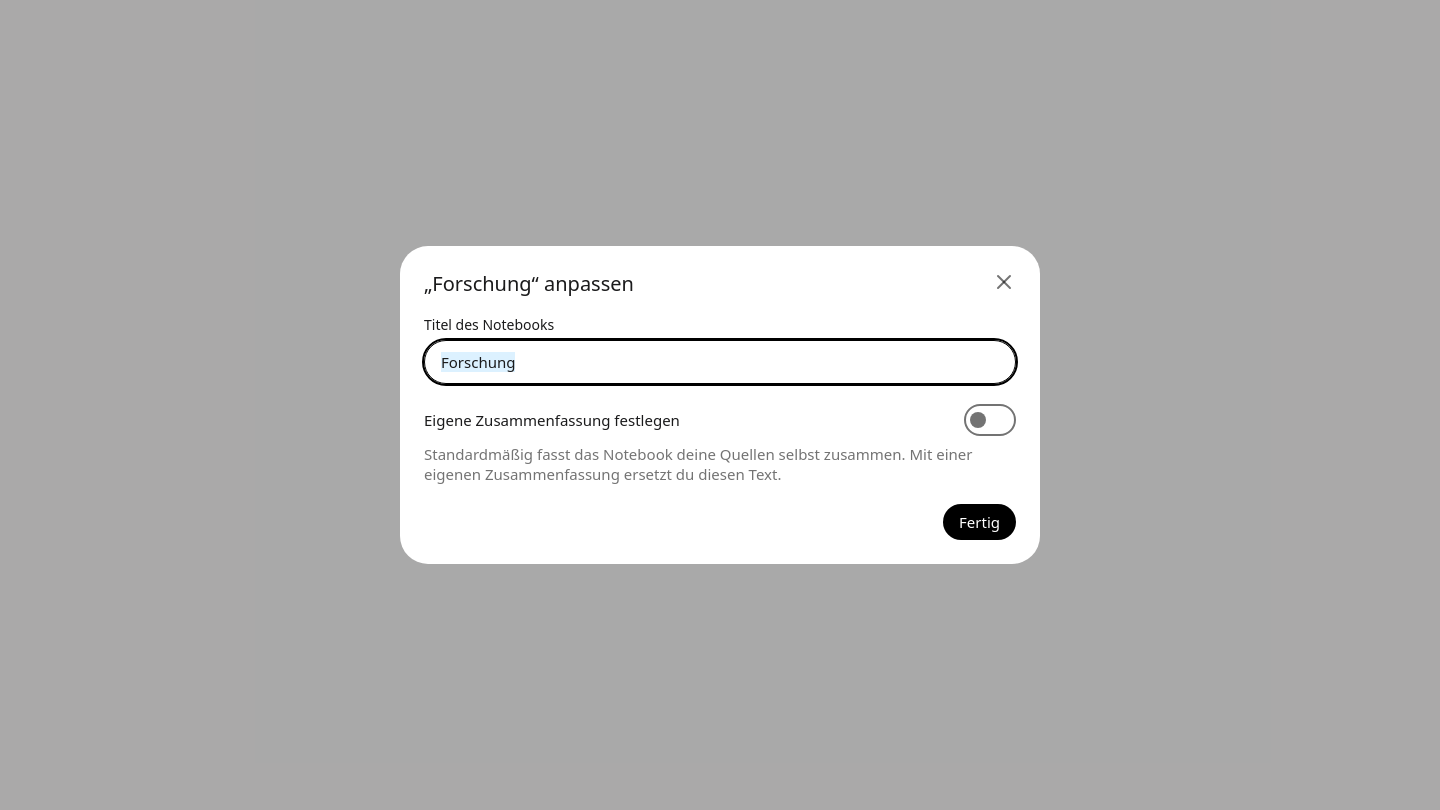
Test case: CustomizeNotebookDialog › keeps the dialog open and says so when saving failed
This screenshot has width=1440, height=810.
Click the switch at (990, 420), box [964,404,1016,436]
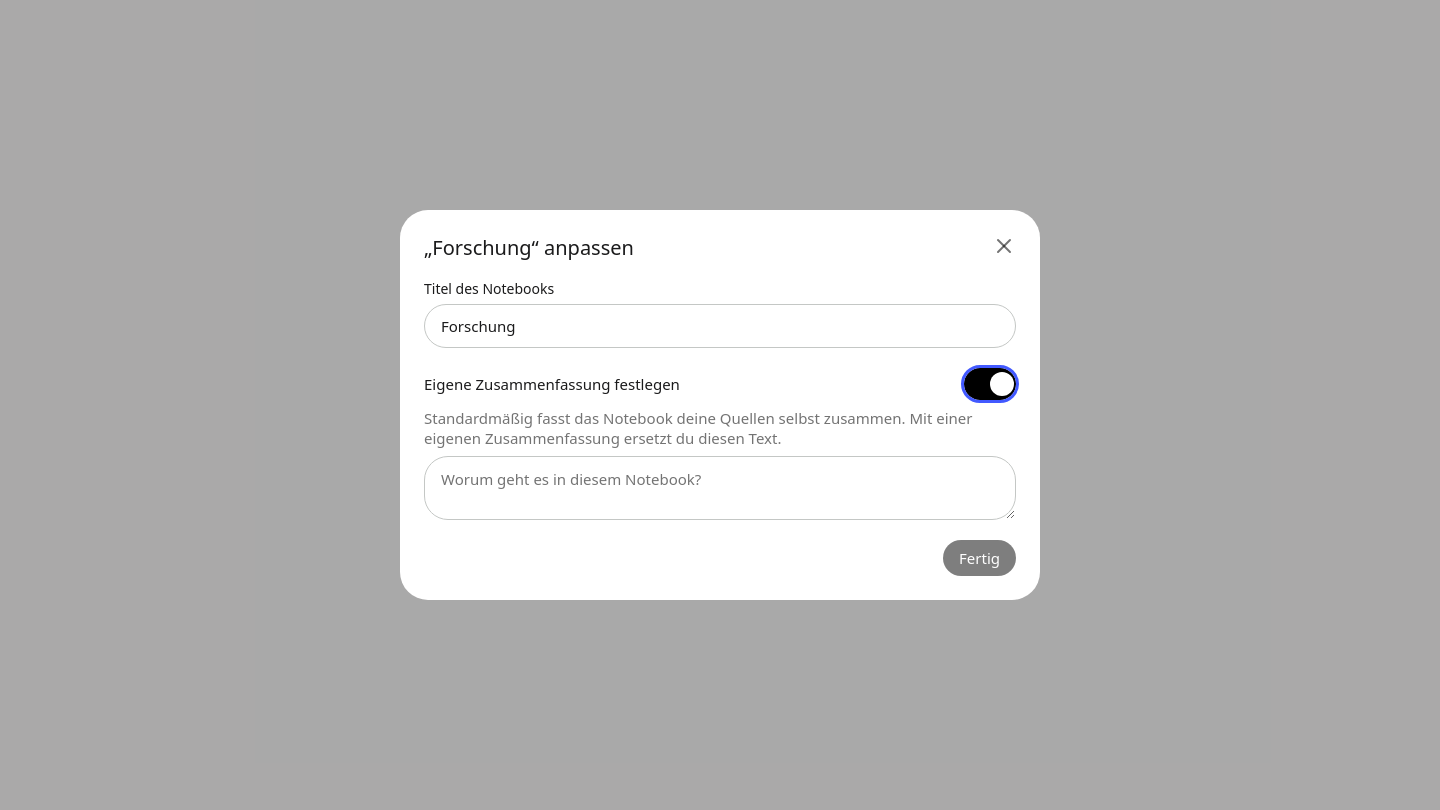
Type "Text" into the text box named "Eigene Zusammenfassung" at (720, 488), box [424,456,1016,520]
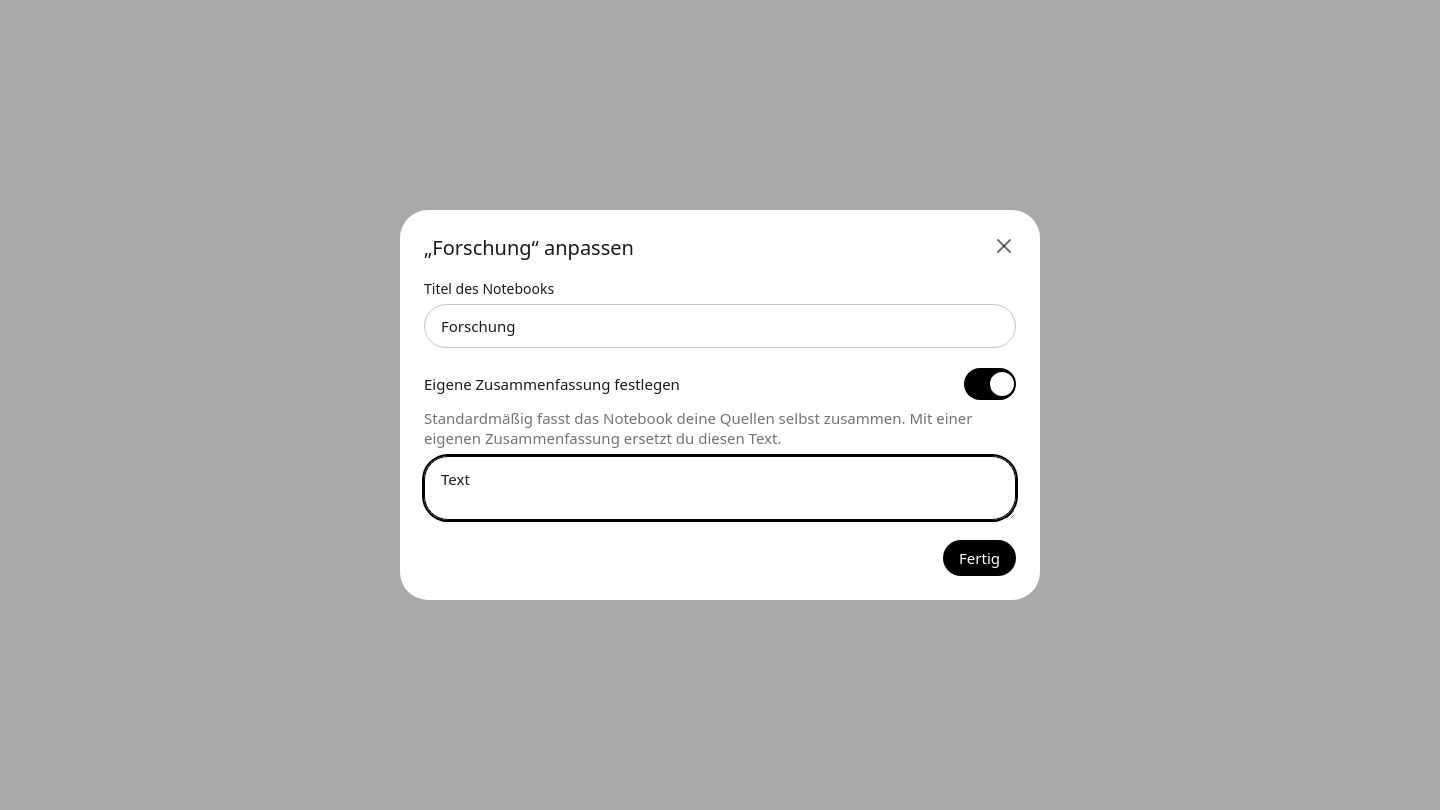
Click the button "Fertig" at (980, 558), box [943,540,1016,576]
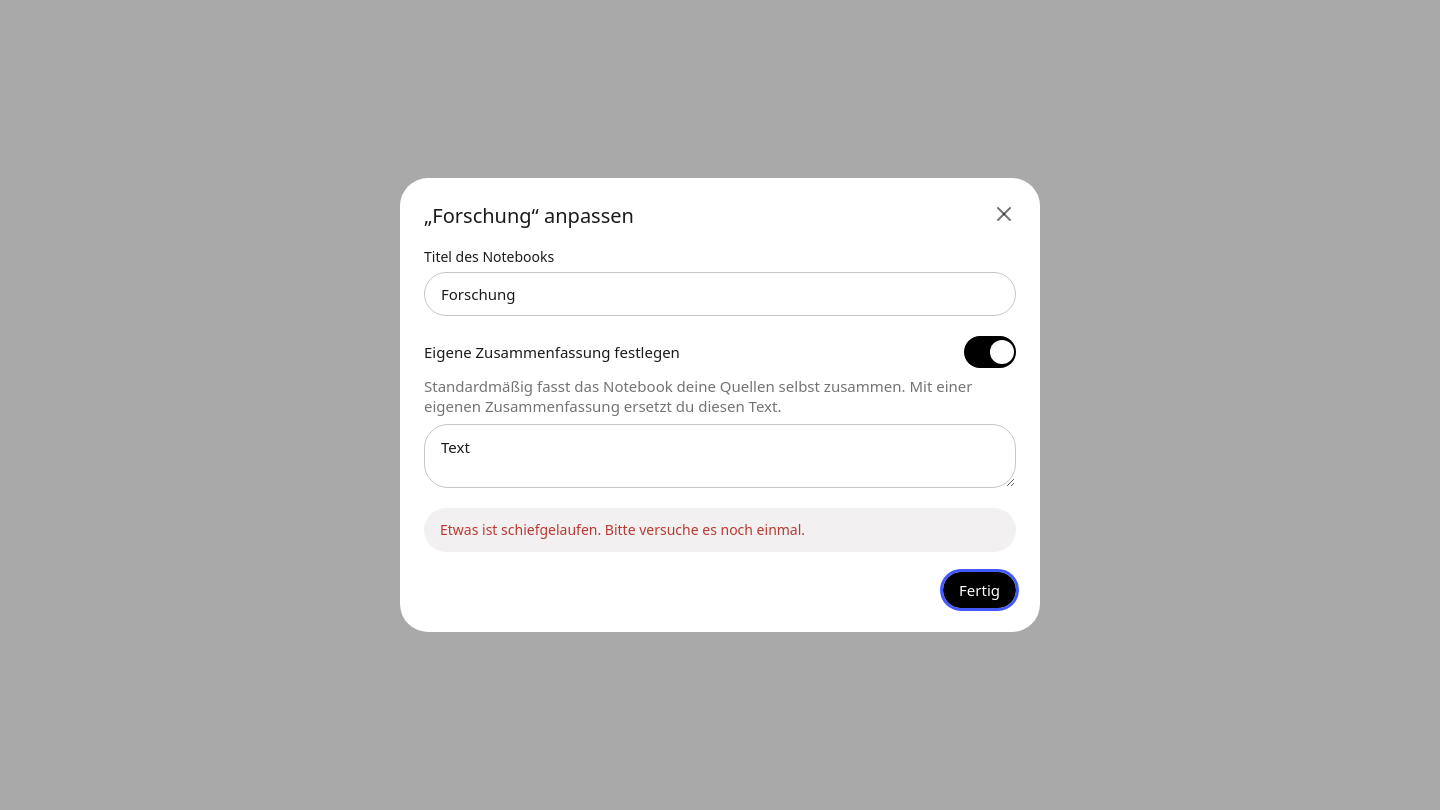
Expected: the message "Etwas ist schiefgelaufen. Bitte versuche es noch einmal." is shown, [424,508,1016,552]
